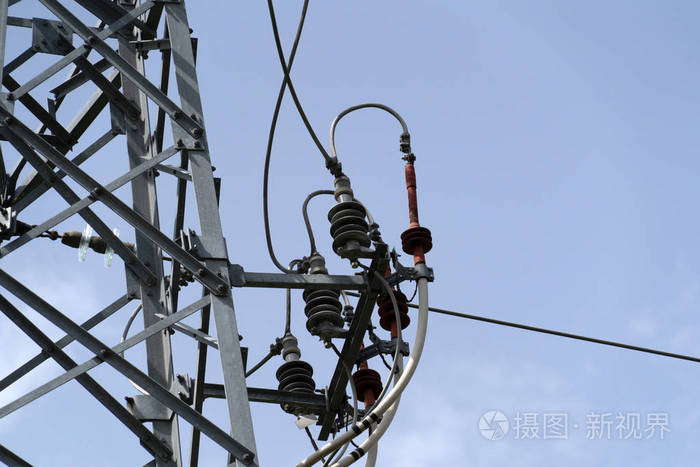insulator: (74, 222, 121, 269)
